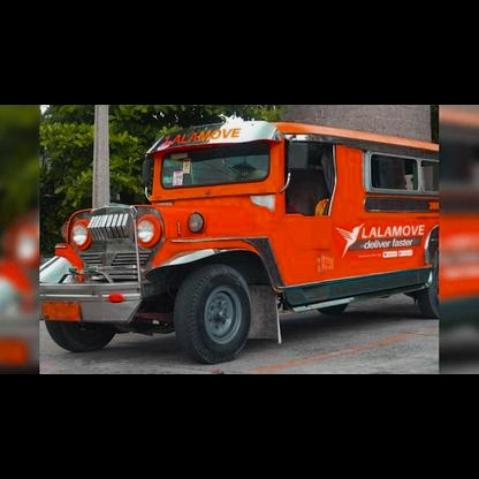jeepney: (42, 116, 439, 353)
